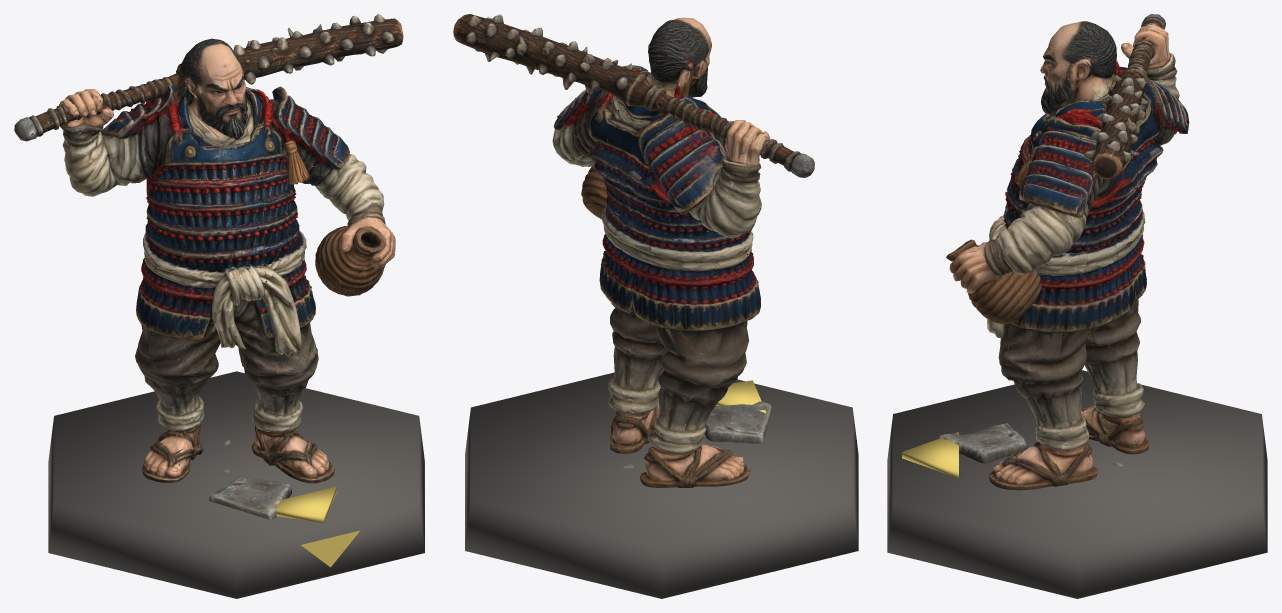
The model's file is wakou.glb.
3 renders of one model, left to right at view 1: azimuth 30°, elevation 25°; view 2: azimuth 150°, elevation 25°; view 3: azimuth 270°, elevation 25°, orthographic. The views are drawn at different scales.
Parts seen in each view (by area): view 1: Miniatura; view 2: Miniatura; view 3: Miniatura.
Part boxes in pixels (<box>): Miniatura: <box>14,14,424,598</box>; Miniatura: <box>453,14,858,598</box>; Miniatura: <box>887,14,1267,598</box>.
Size of the model in its own units: 2 by 2.37 by 1.73.
3 materials, 1 textured.
